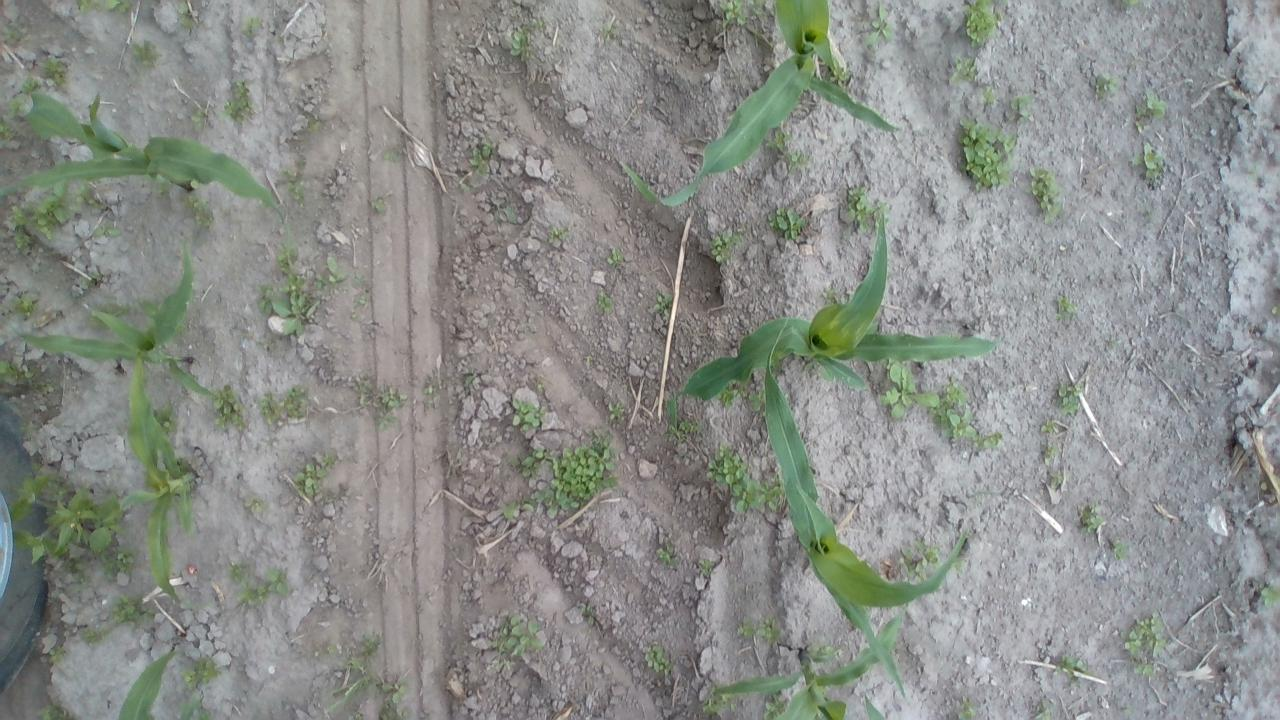Maize: (764, 305, 962, 705), (676, 208, 1002, 401), (620, 0, 904, 209), (2, 87, 286, 217), (20, 241, 214, 396), (712, 604, 906, 720), (130, 357, 200, 606), (119, 648, 177, 720), (861, 693, 890, 718), (181, 698, 201, 718)
Weeds: (500, 395, 616, 520), (877, 359, 1008, 449), (11, 469, 130, 568), (262, 238, 348, 342), (316, 634, 414, 720), (706, 444, 780, 516), (949, 115, 1020, 190), (1123, 612, 1168, 680), (260, 387, 312, 439), (494, 613, 546, 656), (293, 452, 342, 495), (964, 0, 1004, 50), (770, 128, 814, 173), (1028, 165, 1064, 220), (36, 181, 70, 239), (1129, 85, 1169, 133), (239, 571, 288, 609), (213, 384, 249, 435), (373, 386, 411, 432), (860, 3, 900, 45), (1130, 142, 1168, 186), (9, 207, 42, 256), (900, 542, 941, 578), (767, 210, 809, 244), (1053, 379, 1091, 416), (732, 612, 782, 640), (511, 14, 542, 58), (222, 80, 256, 118), (185, 654, 222, 688), (708, 228, 740, 264), (184, 193, 218, 226), (0, 358, 38, 386), (843, 185, 870, 224), (642, 644, 679, 672), (112, 596, 150, 623), (2, 292, 38, 320), (469, 139, 498, 172), (1006, 90, 1034, 124), (714, 0, 747, 28), (132, 37, 166, 63), (43, 56, 73, 85), (946, 56, 977, 84), (228, 560, 260, 586), (172, 1, 200, 30), (286, 169, 310, 201), (1080, 504, 1108, 531), (1058, 649, 1088, 674), (656, 541, 681, 570), (1109, 534, 1134, 562), (26, 705, 72, 720), (1096, 70, 1118, 100), (354, 273, 374, 306), (814, 641, 850, 659), (240, 15, 268, 38), (76, 0, 134, 11), (461, 366, 483, 392), (240, 493, 266, 514), (704, 694, 734, 712), (73, 186, 100, 206), (762, 697, 788, 717), (158, 404, 178, 430), (1261, 580, 1280, 607), (830, 64, 854, 85), (1056, 294, 1077, 318), (959, 698, 983, 718), (548, 224, 572, 244), (651, 294, 670, 318), (978, 84, 998, 106), (1036, 419, 1058, 439), (6, 96, 26, 118), (594, 25, 622, 40), (679, 417, 700, 437), (1114, 0, 1138, 17), (695, 558, 715, 578), (499, 205, 522, 222), (84, 626, 108, 642), (606, 246, 622, 270), (607, 398, 626, 418), (748, 390, 763, 415), (93, 222, 121, 235), (597, 292, 615, 312), (191, 109, 205, 134), (1044, 466, 1062, 485), (490, 660, 517, 672), (748, 0, 768, 16), (874, 200, 891, 218), (23, 76, 41, 93), (381, 145, 400, 161), (48, 646, 67, 662), (1246, 163, 1262, 181), (373, 195, 388, 214), (586, 606, 600, 624), (1042, 444, 1058, 459), (304, 116, 321, 130), (724, 386, 734, 409), (1042, 704, 1054, 720), (0, 123, 12, 139), (1107, 337, 1123, 348), (955, 555, 965, 572), (973, 492, 984, 503), (1271, 304, 1280, 314)
